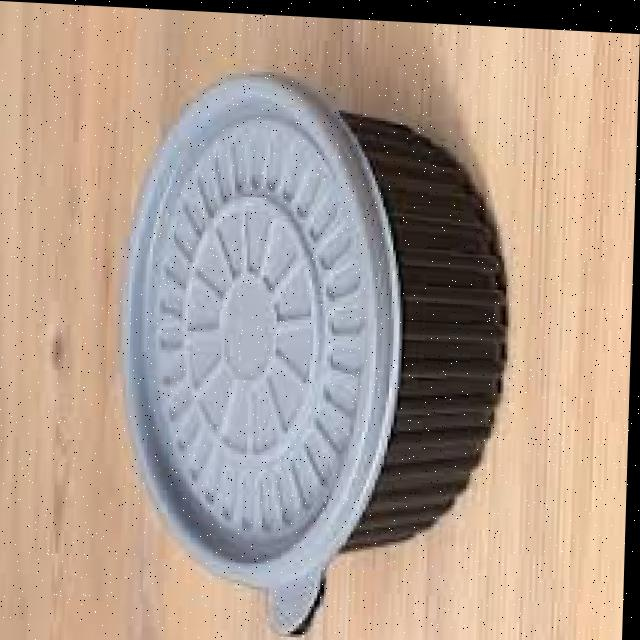disposable: (101, 67, 530, 608)
